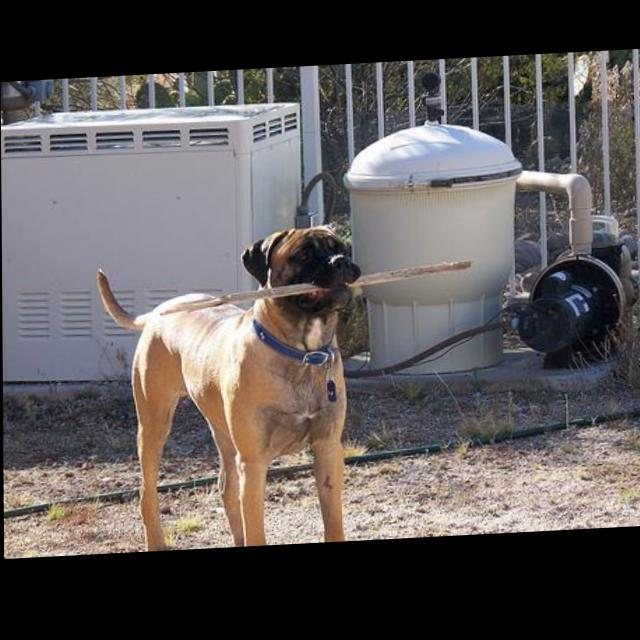bullmastiff: (97, 225, 365, 556)
